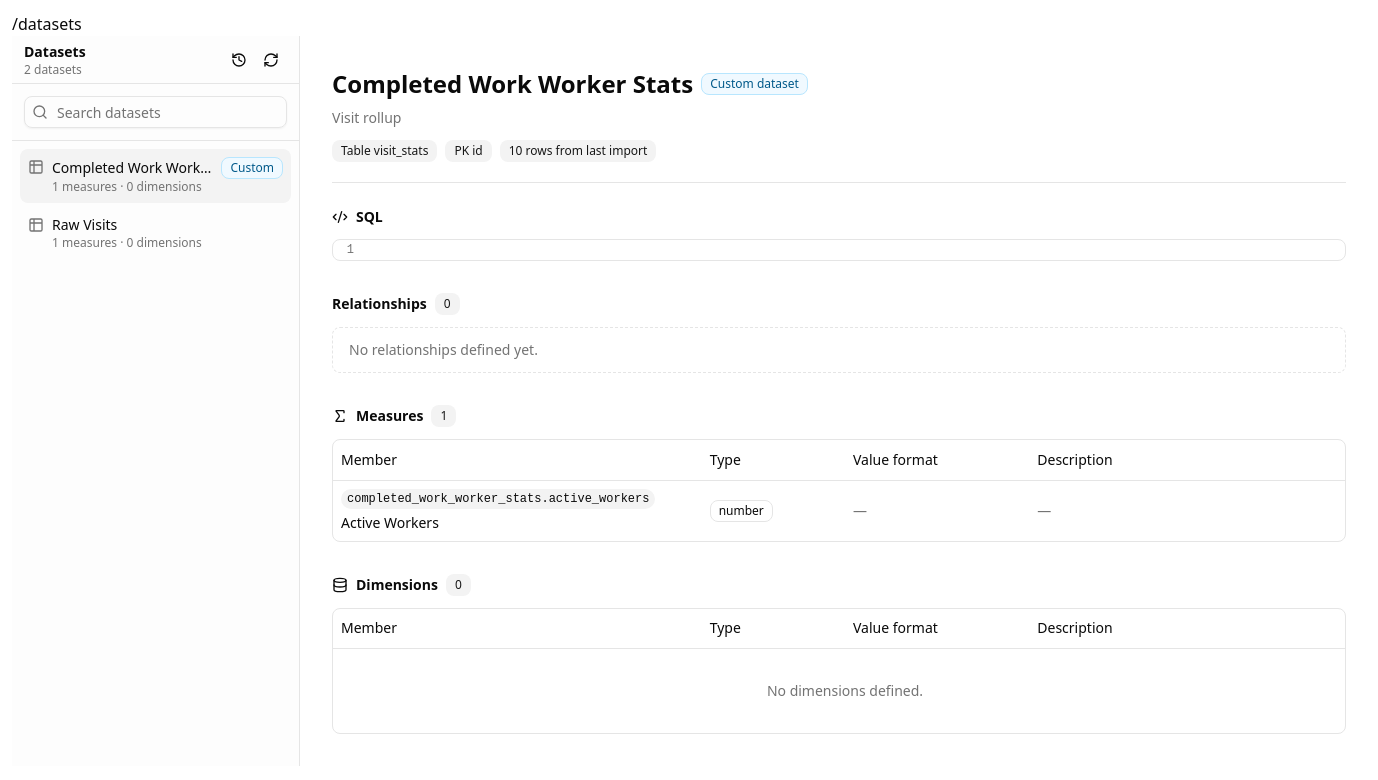
Test case: DatasetBrowserPage routing › uses dataset-level custom provenance before field-level custom badges
Expected: the text with test id "dataset-detail-custom-badge-completed_work_worker_stats" reads "Custom dataset", 710,75 -> 799,92
Click the button with test id "dataset-item-raw_visits" at (156,233), box 20,207 -> 291,259
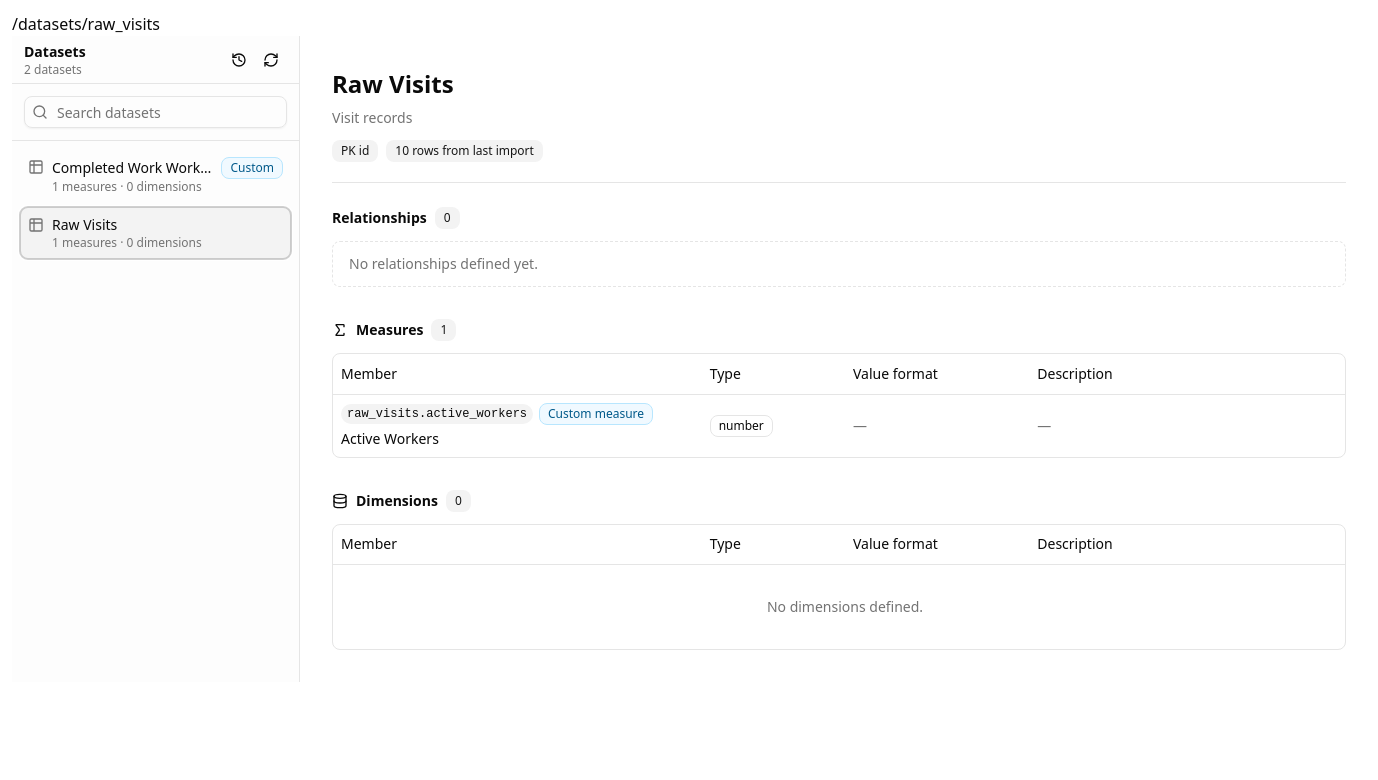
Result: the text with test id "field-custom-badge-active_workers" reads "Custom measure" at 548,404 -> 644,422
